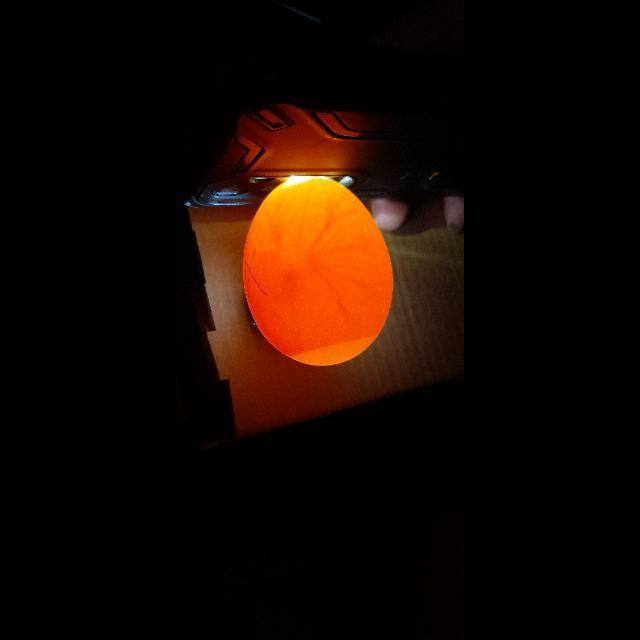Fertile: (236, 173, 397, 371)
